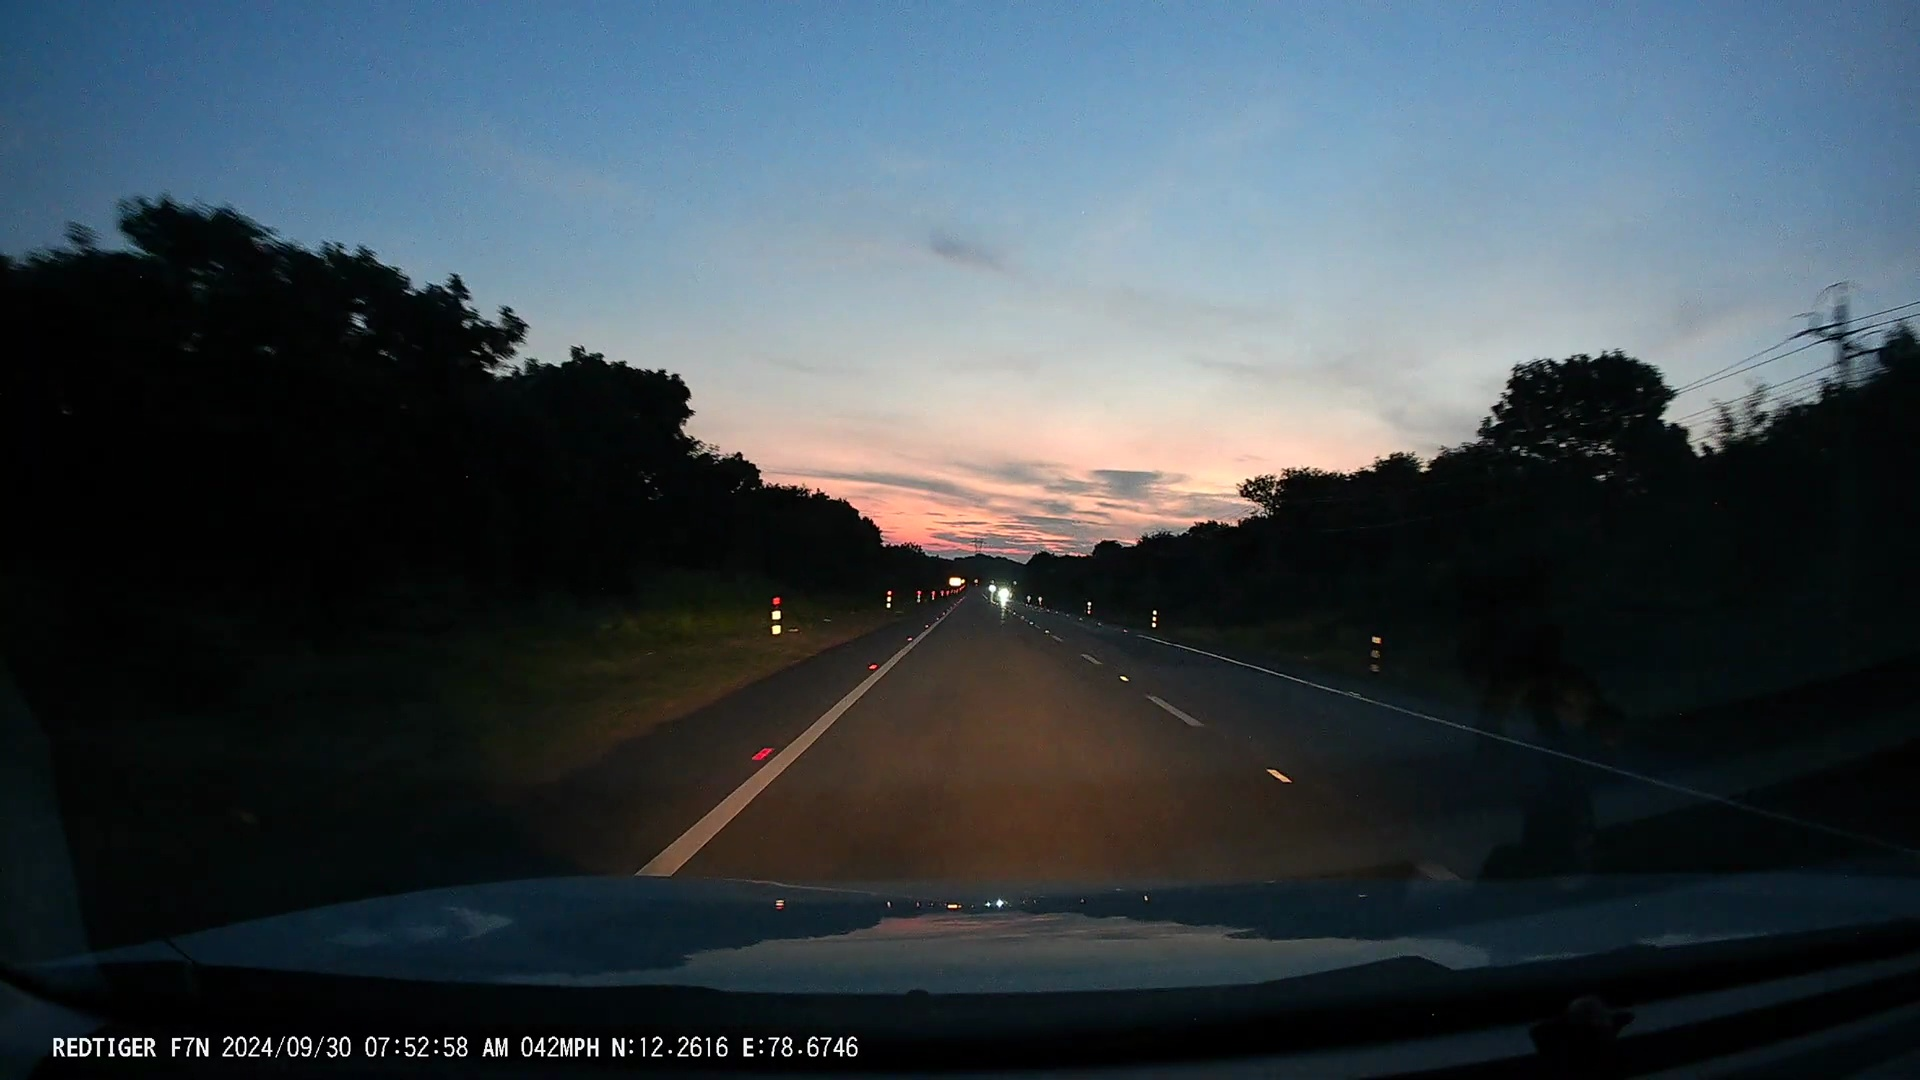headlight: (1000, 588, 1010, 599), (989, 583, 996, 596)
two wheeler: (981, 578, 1017, 604)
